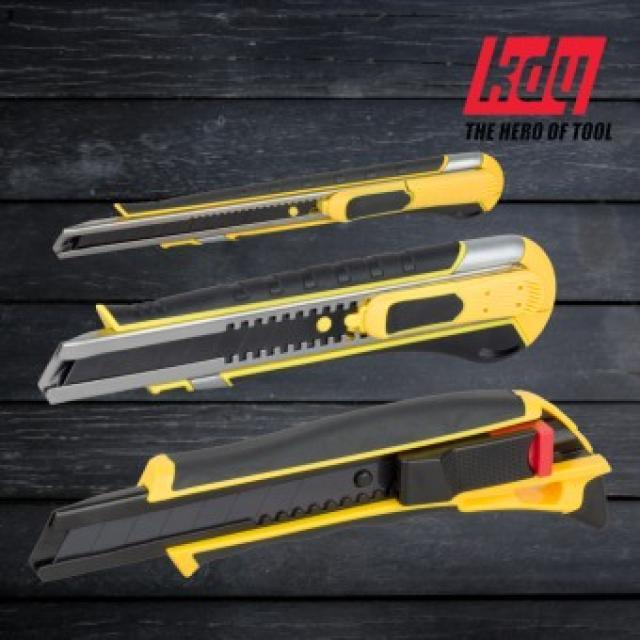cutter: (19, 380, 609, 610), (14, 227, 554, 406), (26, 148, 524, 266)
